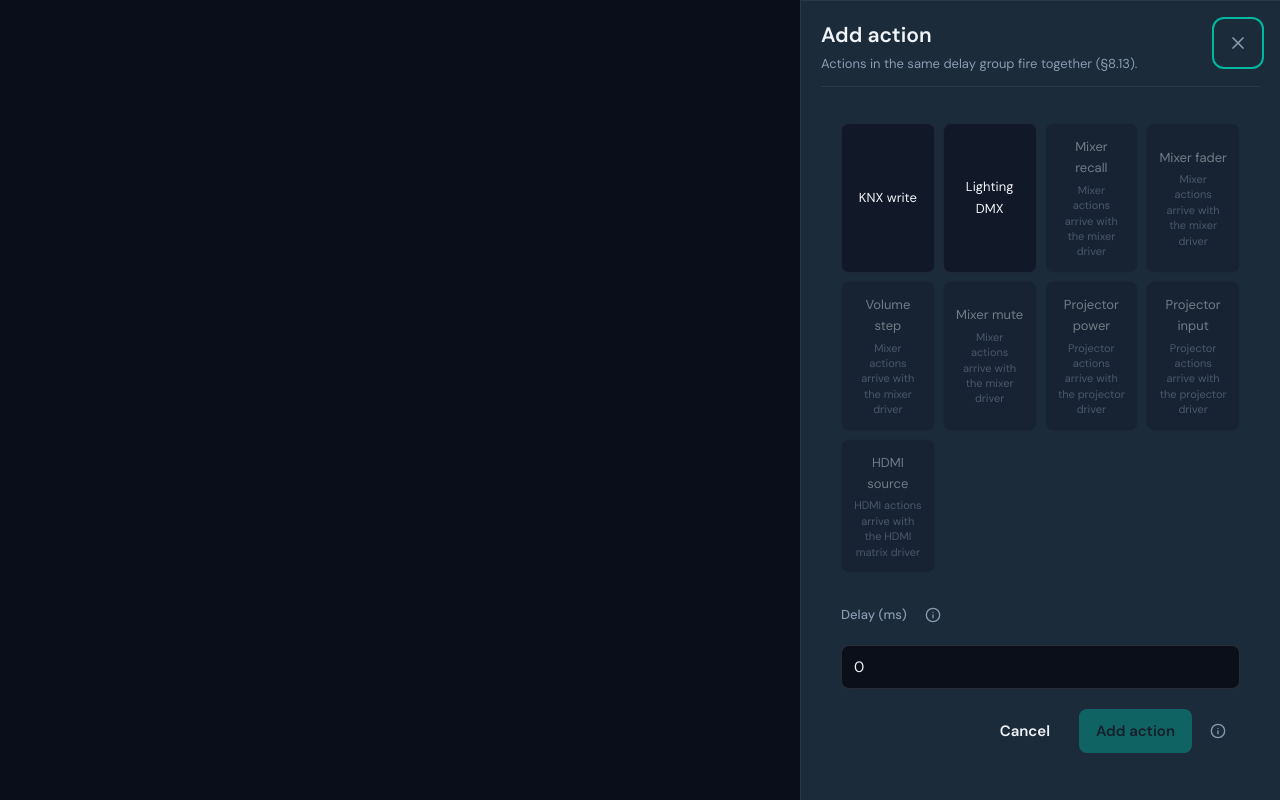
Test case: ActionEditorSheet › capturing the current look fills the DMX action with the snapshot
What coordinates should you click on to do the following:
click the button "Lighting DMX"
I would click on:
 (990, 198)
Its box is 943,123 -> 1037,273.
(page scrolled)
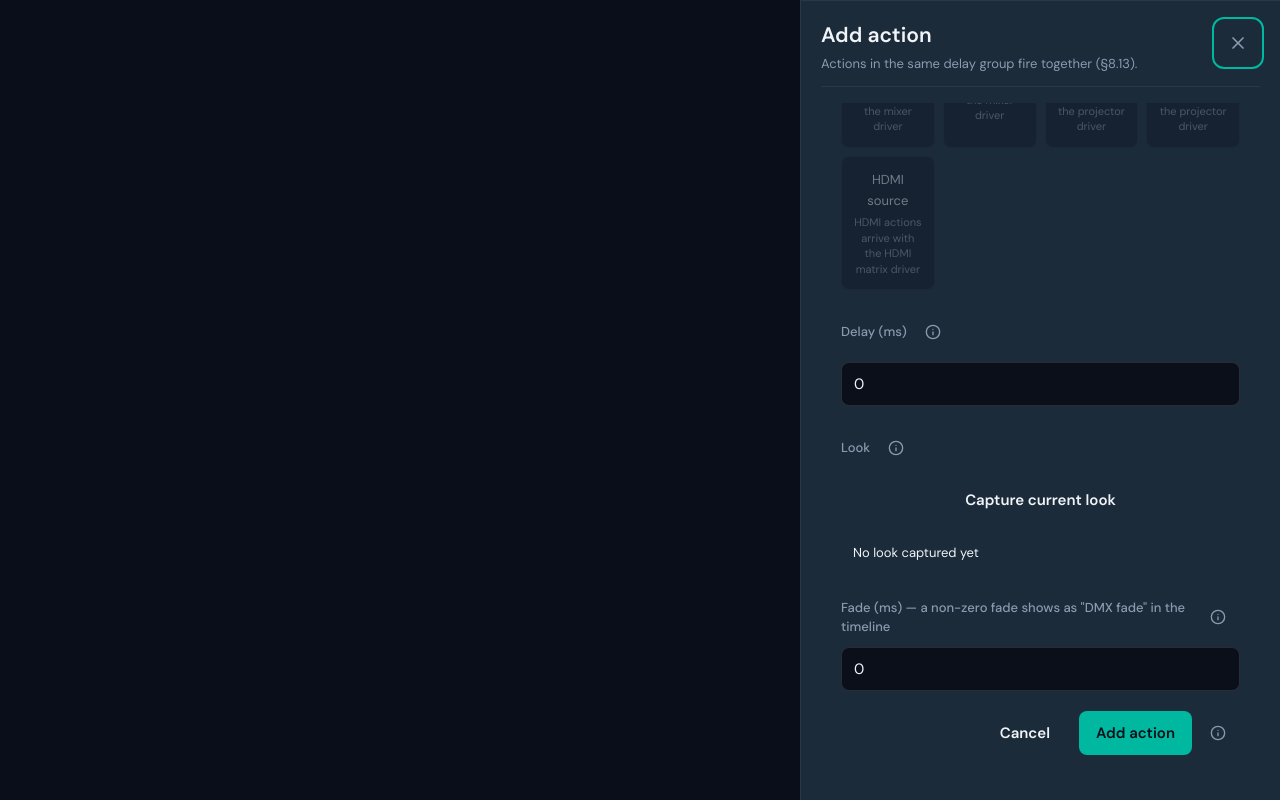
Expected: the text "No look captured yet" is shown, 841,530 -> 1240,575
What coordinates should you click on to do the following:
click the button "Capture current look"
I would click on:
 (1040, 500)
Its box is 841,478 -> 1240,522.
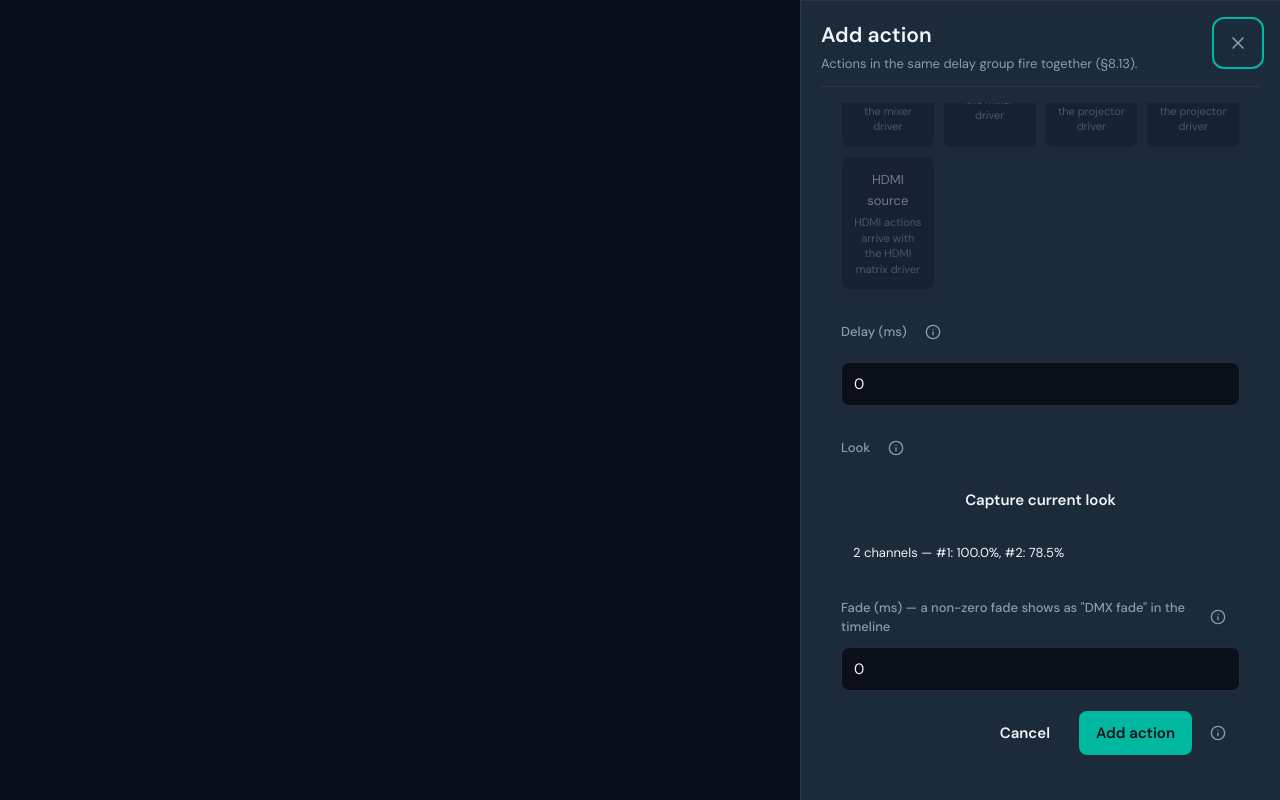
Expected: the text "2 channels — #1: 100.0%, #2: 78.5%" is shown, 841,530 -> 1240,575
